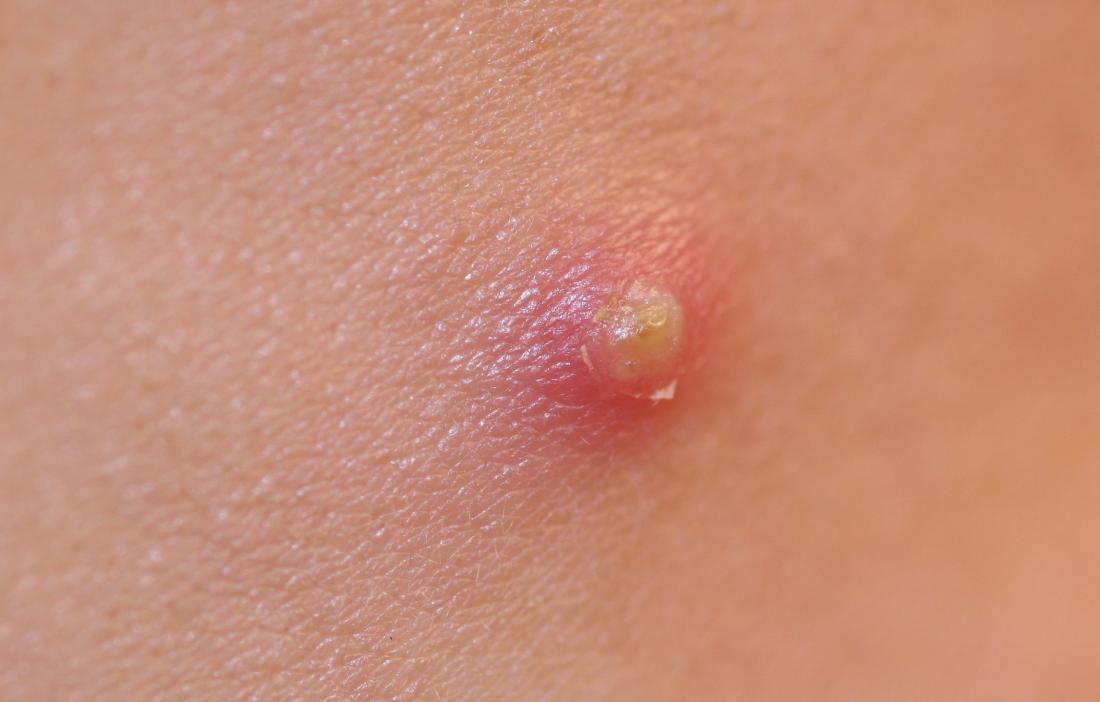cystic: (481, 237, 804, 447)
